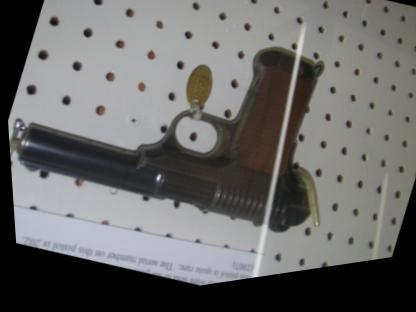pistol: (0, 0, 366, 286)
